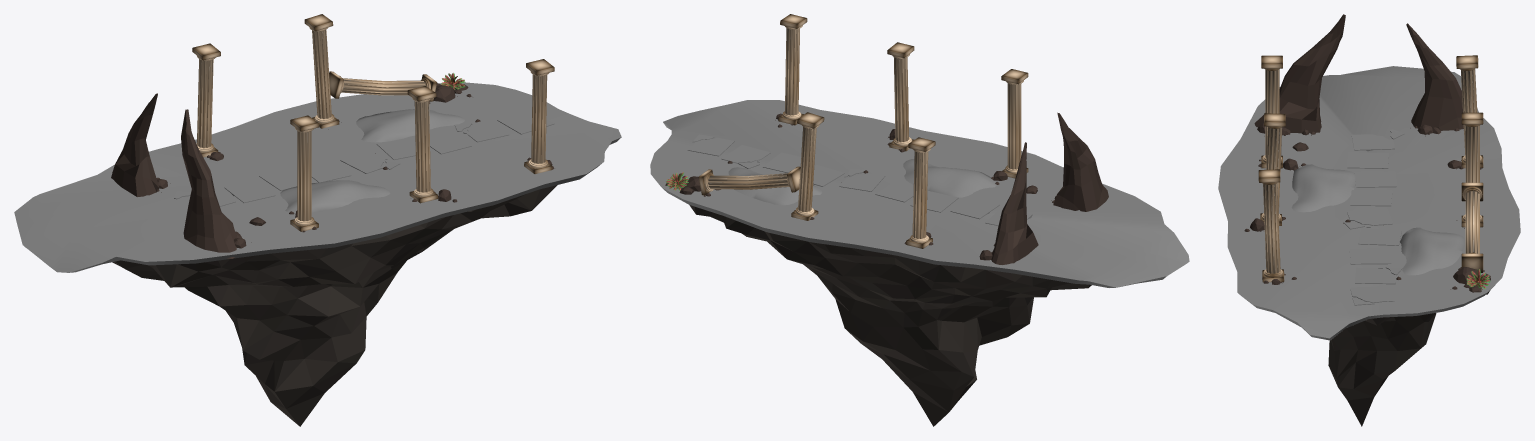
The model's file is Asteroid_End.fbx.
3 renders of one model, left to right at view 1: azimuth 30°, elevation 25°; view 2: azimuth 150°, elevation 25°; view 3: azimuth 270°, elevation 25°, orthographic. The views are drawn at different scales.
Parts seen in each view (by area): view 1: Cube_89; view 2: Cube_89; view 3: Cube_89.
Boxes of the visible parts, x1=… form: Cube_89: x1=14, y1=14, x2=621, y2=426; Cube_89: x1=650, y1=14, x2=1189, y2=426; Cube_89: x1=1218, y1=14, x2=1520, y2=426.
Size of the model in its own units: 714 by 429 by 333.
7 materials, 4 textured.
